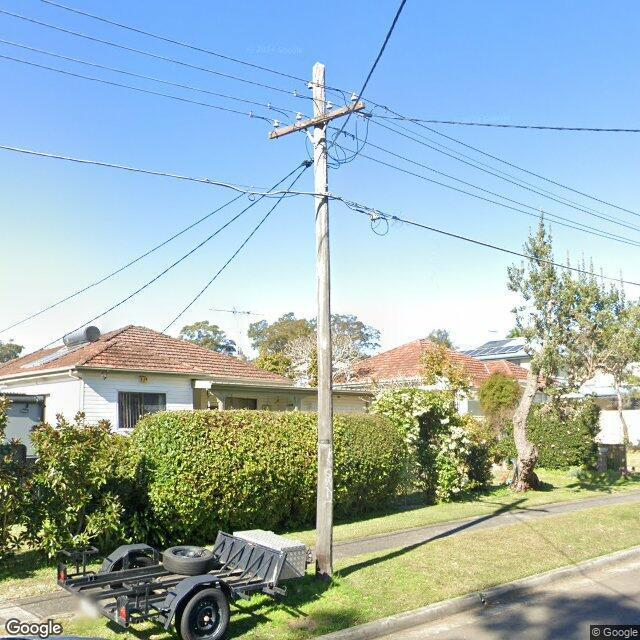crossarm: (266, 100, 364, 141)
timber-pole: (310, 62, 335, 576)
